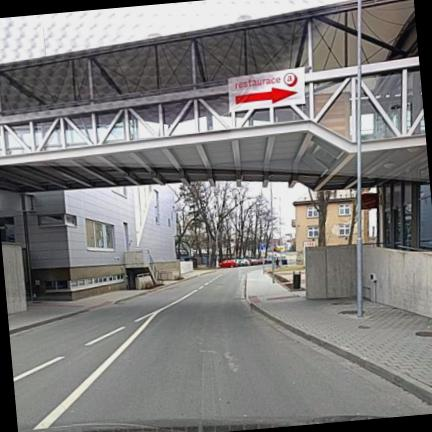Road: (10, 269, 431, 430)
